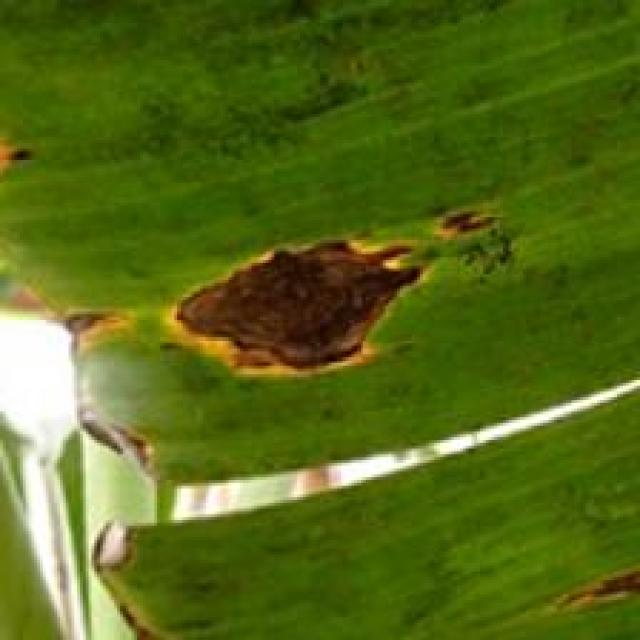Bacterial_spot: (166, 194, 424, 401), (68, 392, 203, 500), (42, 285, 138, 366), (544, 555, 640, 629), (76, 508, 142, 598), (436, 190, 503, 247), (112, 588, 171, 640), (0, 143, 56, 186)
